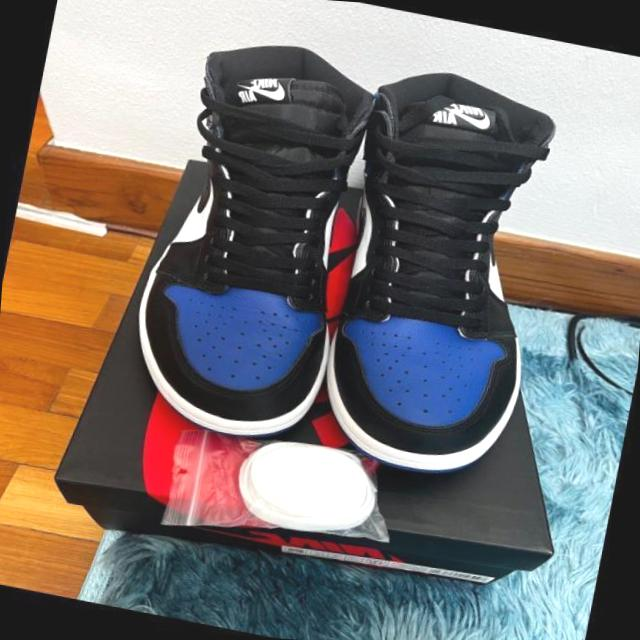nike_original_jordan: (297, 50, 578, 495), (118, 24, 386, 454)
